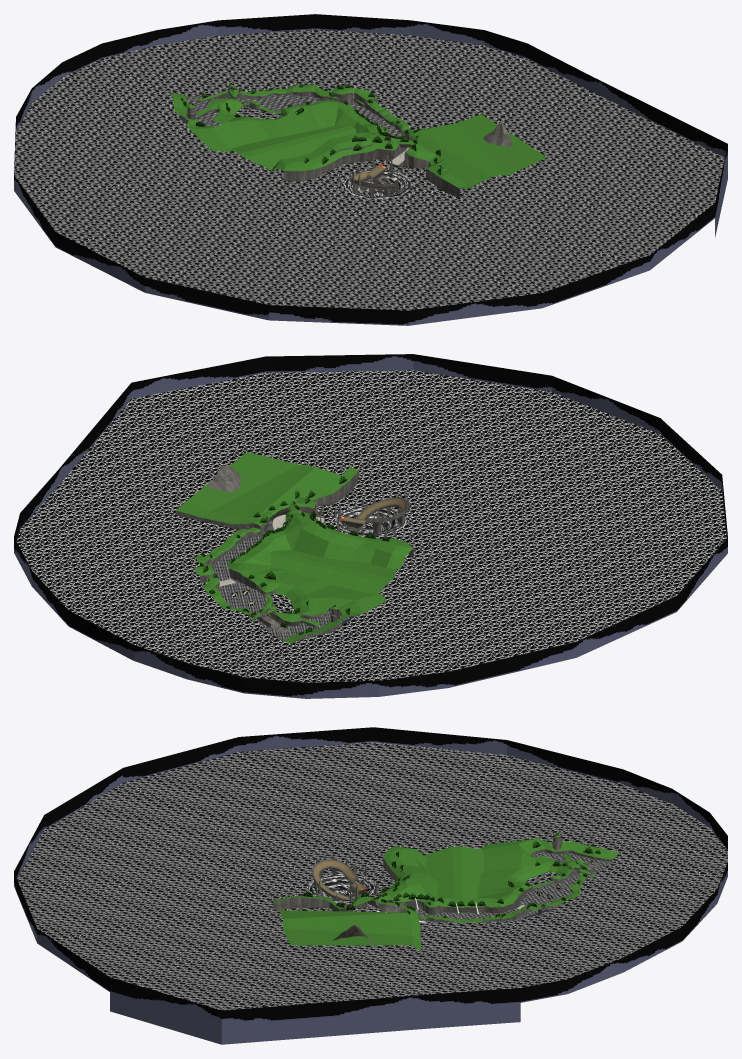
3 views of the same model, one above another, from view 1: azimuth 30°, elevation 25°; view 2: azimuth 150°, elevation 25°; view 3: azimuth 270°, elevation 25° (orthographic). The views are drawn at different scales.
Parts seen in each view (by area): view 1: bluewater.001, bg, grass, rock.001, waterclear, bush, waterspiralfoam; view 2: bluewater.001, bg, grass, rock.001, waterclear, bush, waterspiralfoam; view 3: bluewater.001, bg, grass, rock.001, waterclear, bush, waterspiralfoam.
Boxes of the visible parts, x1=… form: bluewater.001: x1=14, y1=29, x2=724, y2=310; bg: x1=14, y1=14, x2=727, y2=325; grass: x1=168, y1=83, x2=547, y2=189; rock.001: x1=184, y1=83, x2=513, y2=198; waterclear: x1=185, y1=94, x2=401, y2=184; bush: x1=180, y1=84, x2=441, y2=174; waterspiralfoam: x1=343, y1=170, x2=412, y2=199; bluewater.001: x1=17, y1=370, x2=726, y2=682; bg: x1=14, y1=354, x2=727, y2=698; grass: x1=176, y1=452, x2=413, y2=644; rock.001: x1=175, y1=465, x2=413, y2=641; waterclear: x1=207, y1=534, x2=349, y2=641; bush: x1=200, y1=476, x2=389, y2=635; waterspiralfoam: x1=334, y1=505, x2=407, y2=535; bluewater.001: x1=17, y1=742, x2=727, y2=1010; bg: x1=14, y1=727, x2=727, y2=1044; grass: x1=273, y1=833, x2=619, y2=952; rock.001: x1=272, y1=836, x2=612, y2=948; waterclear: x1=348, y1=852, x2=611, y2=922; bush: x1=303, y1=833, x2=600, y2=918; waterspiralfoam: x1=308, y1=874, x2=374, y2=902.
Size of the model in its own units: 225393 by 20459 by 240046.
26 materials, 26 textured.
